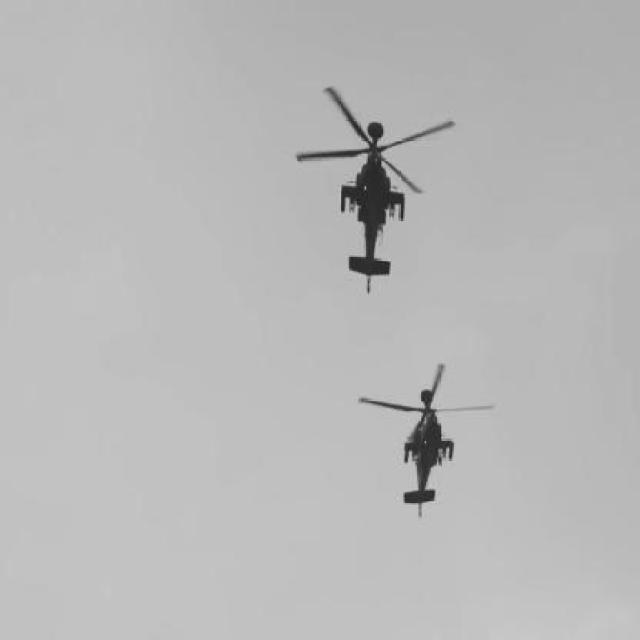Helicopter: (297, 87, 456, 295), (359, 361, 494, 519)
